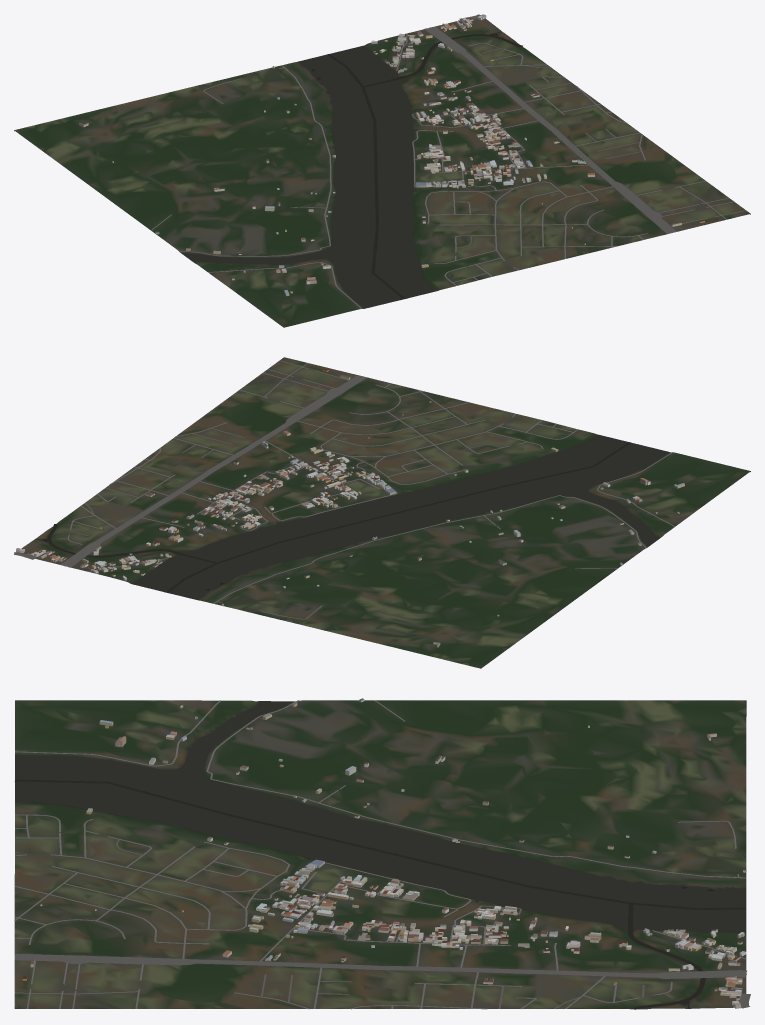
The picture shows the model from 3 angles, top to bottom: view 1: azimuth 30°, elevation 25°; view 2: azimuth 150°, elevation 25°; view 3: azimuth 270°, elevation 25°; orthographic projection. The views are drawn at different scales.
Parts seen in each view (by area): view 1: ground, water, roads, buildings; view 2: ground, water, roads, buildings; view 3: ground, water, roads, buildings.
Part boxes in pixels (x1,y1,x2,y2): ground: [14, 18, 750, 327]; water: [182, 31, 522, 308]; roads: [151, 14, 745, 308]; buildings: [79, 14, 704, 296]; ground: [21, 357, 750, 668]; water: [35, 434, 668, 599]; roads: [14, 360, 675, 619]; buildings: [16, 368, 684, 647]; ground: [14, 700, 746, 1009]; water: [14, 701, 746, 1009]; roads: [14, 700, 750, 1009]; buildings: [22, 698, 746, 1008].
Size of the model in its own units: 1404 by 18.35 by 1411.
